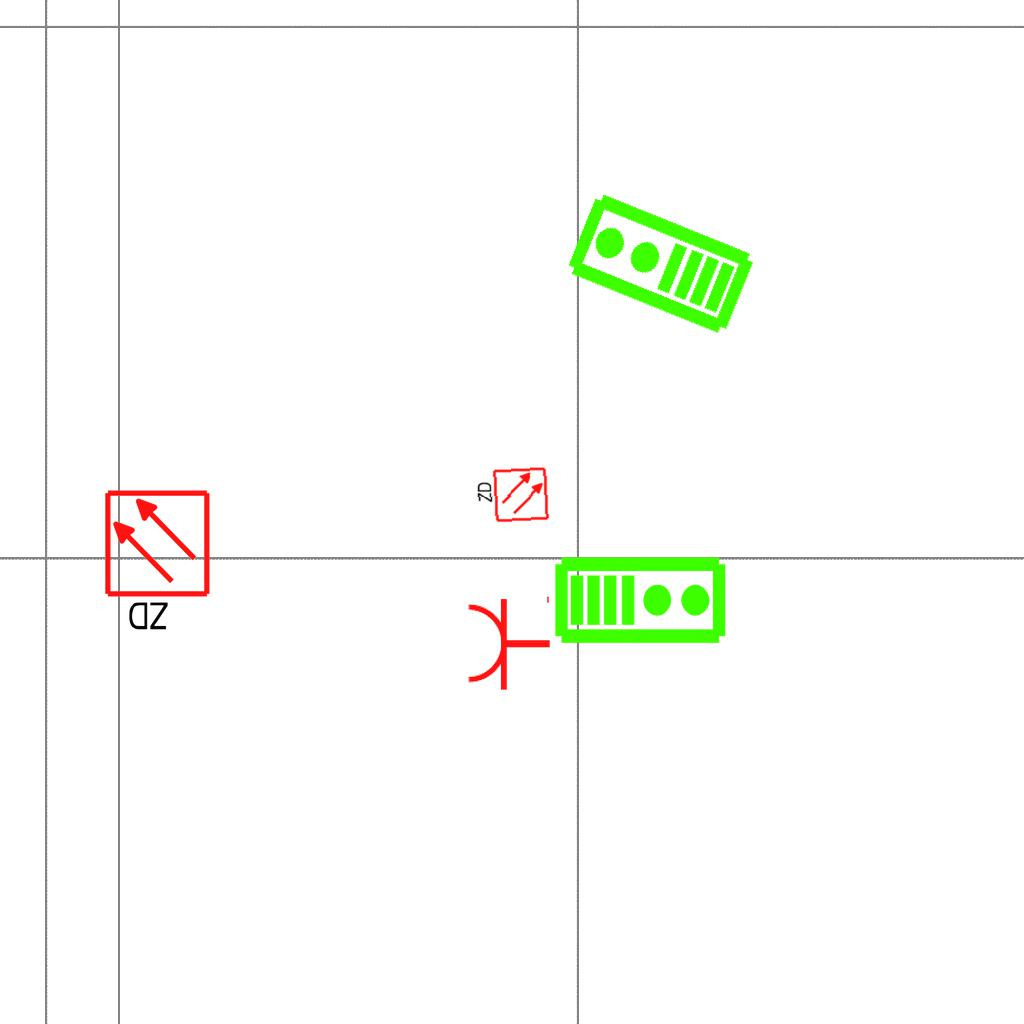Gegensprechanlage_mit_Video: (560, 187, 759, 343), (553, 551, 729, 646)
Schukosteckdose_einfach: (465, 592, 552, 692)
ZD_Melder_in_Zwischendecke_mit_Revisionsoeffnung_mind_40_x_40_cm: (102, 488, 216, 637), (473, 465, 550, 527)
